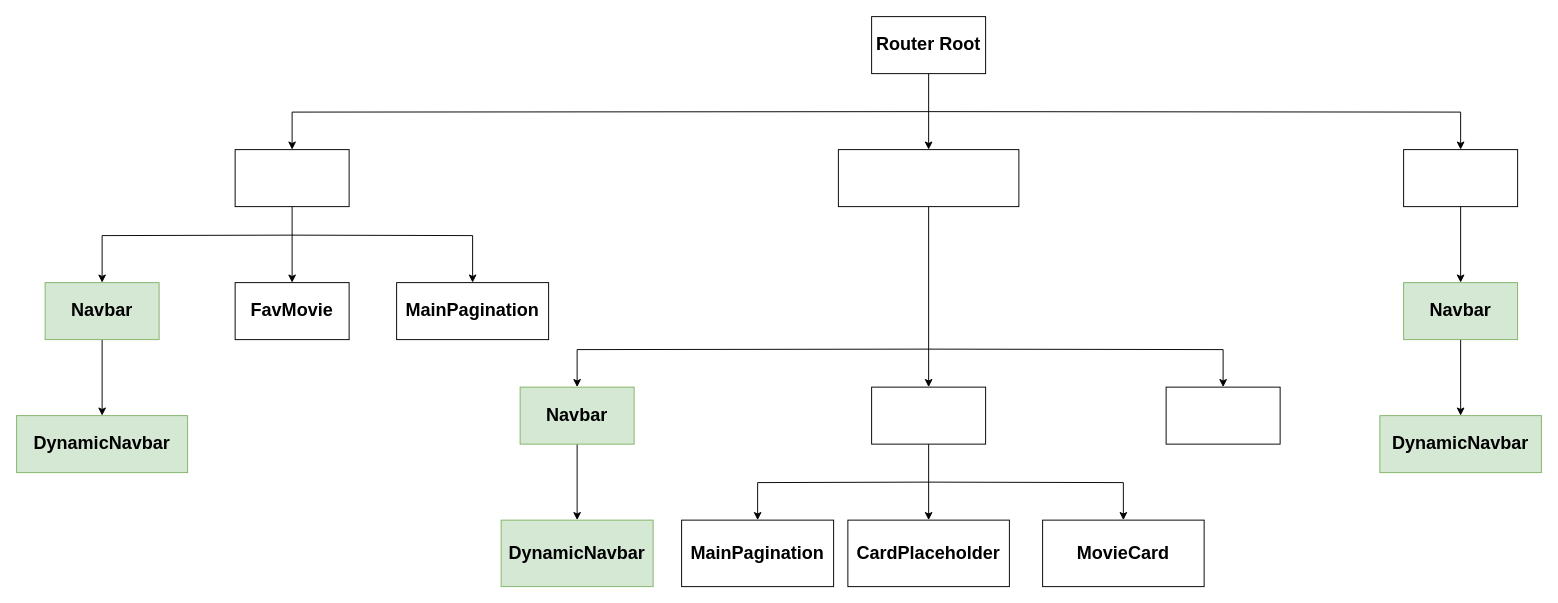
Image size: 1558x603. Some labels were removed from this diagram. The centre of each missing label's shape, as x and y in pixels:
"Favorite" goes at (291,178).
"Footer" goes at (1222,415).
"Landing<mode>" goes at (928,178).
"MovieList" goes at (928,415).
"NotFound" goes at (1460,178).
